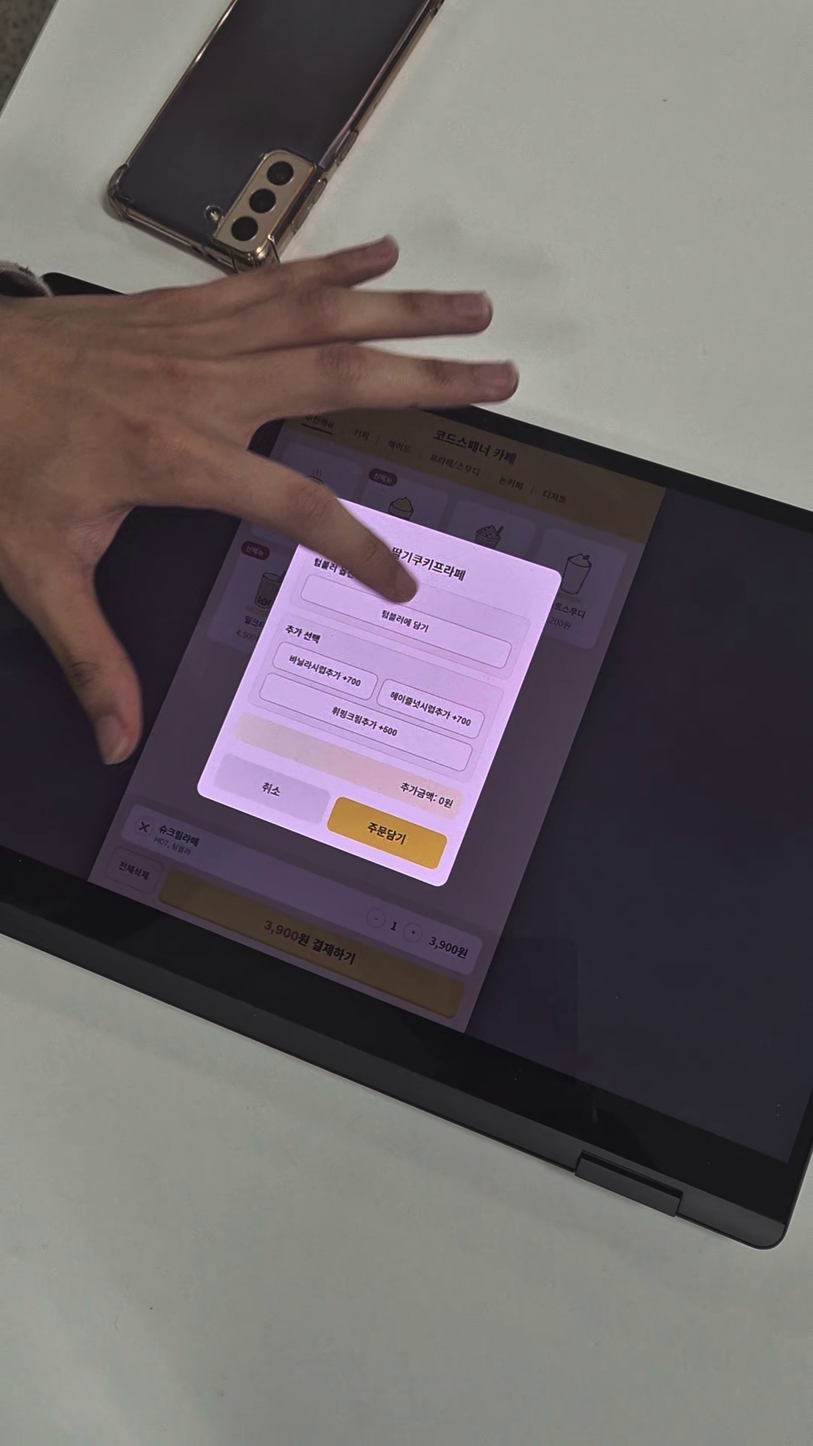action_button: (326, 795, 449, 874), (206, 750, 332, 826)
menu_name: (387, 541, 471, 586)
option_button: (258, 672, 474, 774), (301, 573, 514, 671), (270, 639, 379, 702), (375, 678, 486, 739)
popup_modal: (185, 491, 567, 889)
